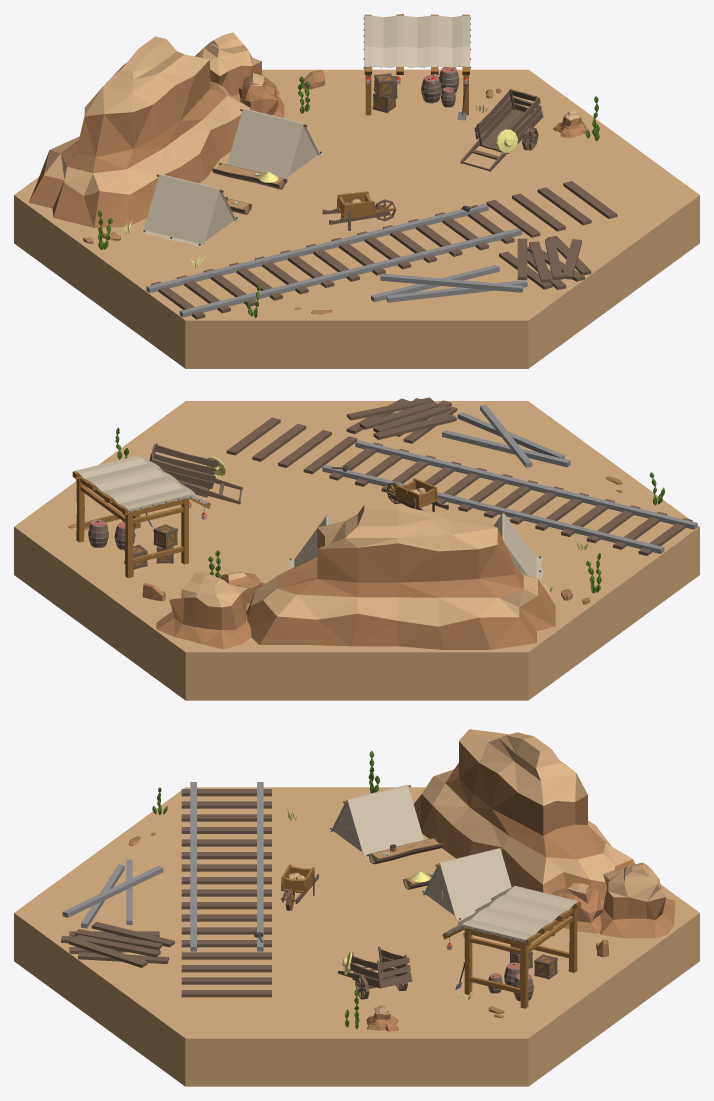
File: Tile_20.fbx
3 views of the same model, one above another, from view 1: azimuth 30°, elevation 25°; view 2: azimuth 150°, elevation 25°; view 3: azimuth 270°, elevation 25° (orthographic).
Visible parts, largest first — view 1: Tile_20_Base, Tile_20, Tile_20_Rails_under_construction, Tile_20_canopy, Tile_20_Cart, Tile_20_Mini_Cart; view 2: Tile_20_Base, Tile_20, Tile_20_Rails_under_construction, Tile_20_canopy, Tile_20_Cart, Tile_20_Mini_Cart; view 3: Tile_20_Base, Tile_20, Tile_20_Rails_under_construction, Tile_20_canopy, Tile_20_Cart, Tile_20_Mini_Cart.
Part boxes in pixels (x1,y1,x2,y2): Tile_20_Base: (14,69,699,368); Tile_20: (29,32,599,317); Tile_20_Rails_under_construction: (146,181,617,319); Tile_20_canopy: (363,14,470,115); Tile_20_Cart: (460,88,543,171); Tile_20_Mini_Cart: (322,191,396,230); Tile_20_Base: (14,401,699,700); Tile_20: (68,397,664,649); Tile_20_Rails_under_construction: (226,417,697,555); Tile_20_canopy: (72,455,210,578); Tile_20_Cart: (149,443,242,504); Tile_20_Mini_Cart: (386,478,448,512); Tile_20_Base: (14,787,699,1086); Tile_20: (61,729,675,1031); Tile_20_Rails_under_construction: (181,782,271,997); Tile_20_canopy: (442,886,580,1008); Tile_20_Cart: (338,946,412,999); Tile_20_Mini_Cart: (280,864,318,910).
Size of the model in its own units: 2007 by 2318 by 601.
